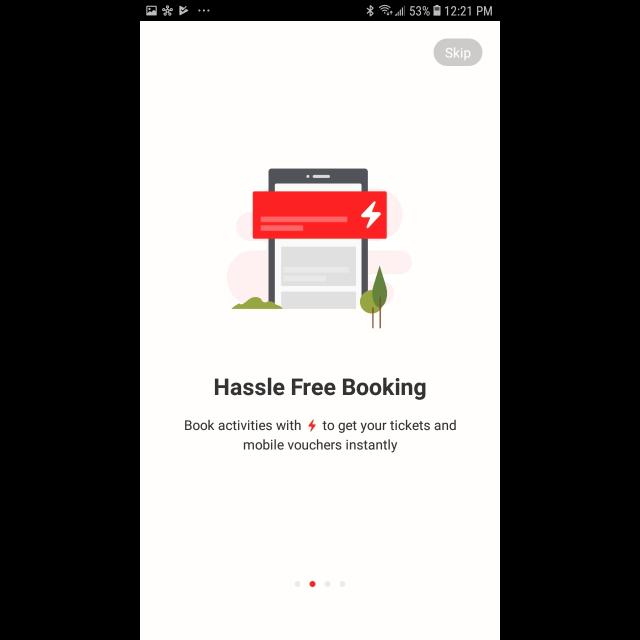image: (226, 168, 412, 328)
pageindicator: (294, 580, 346, 588)
text: (186, 420, 457, 452), (214, 378, 426, 400)
textbutton: (433, 39, 482, 67)
uppertaskbar: (140, 1, 500, 22)
